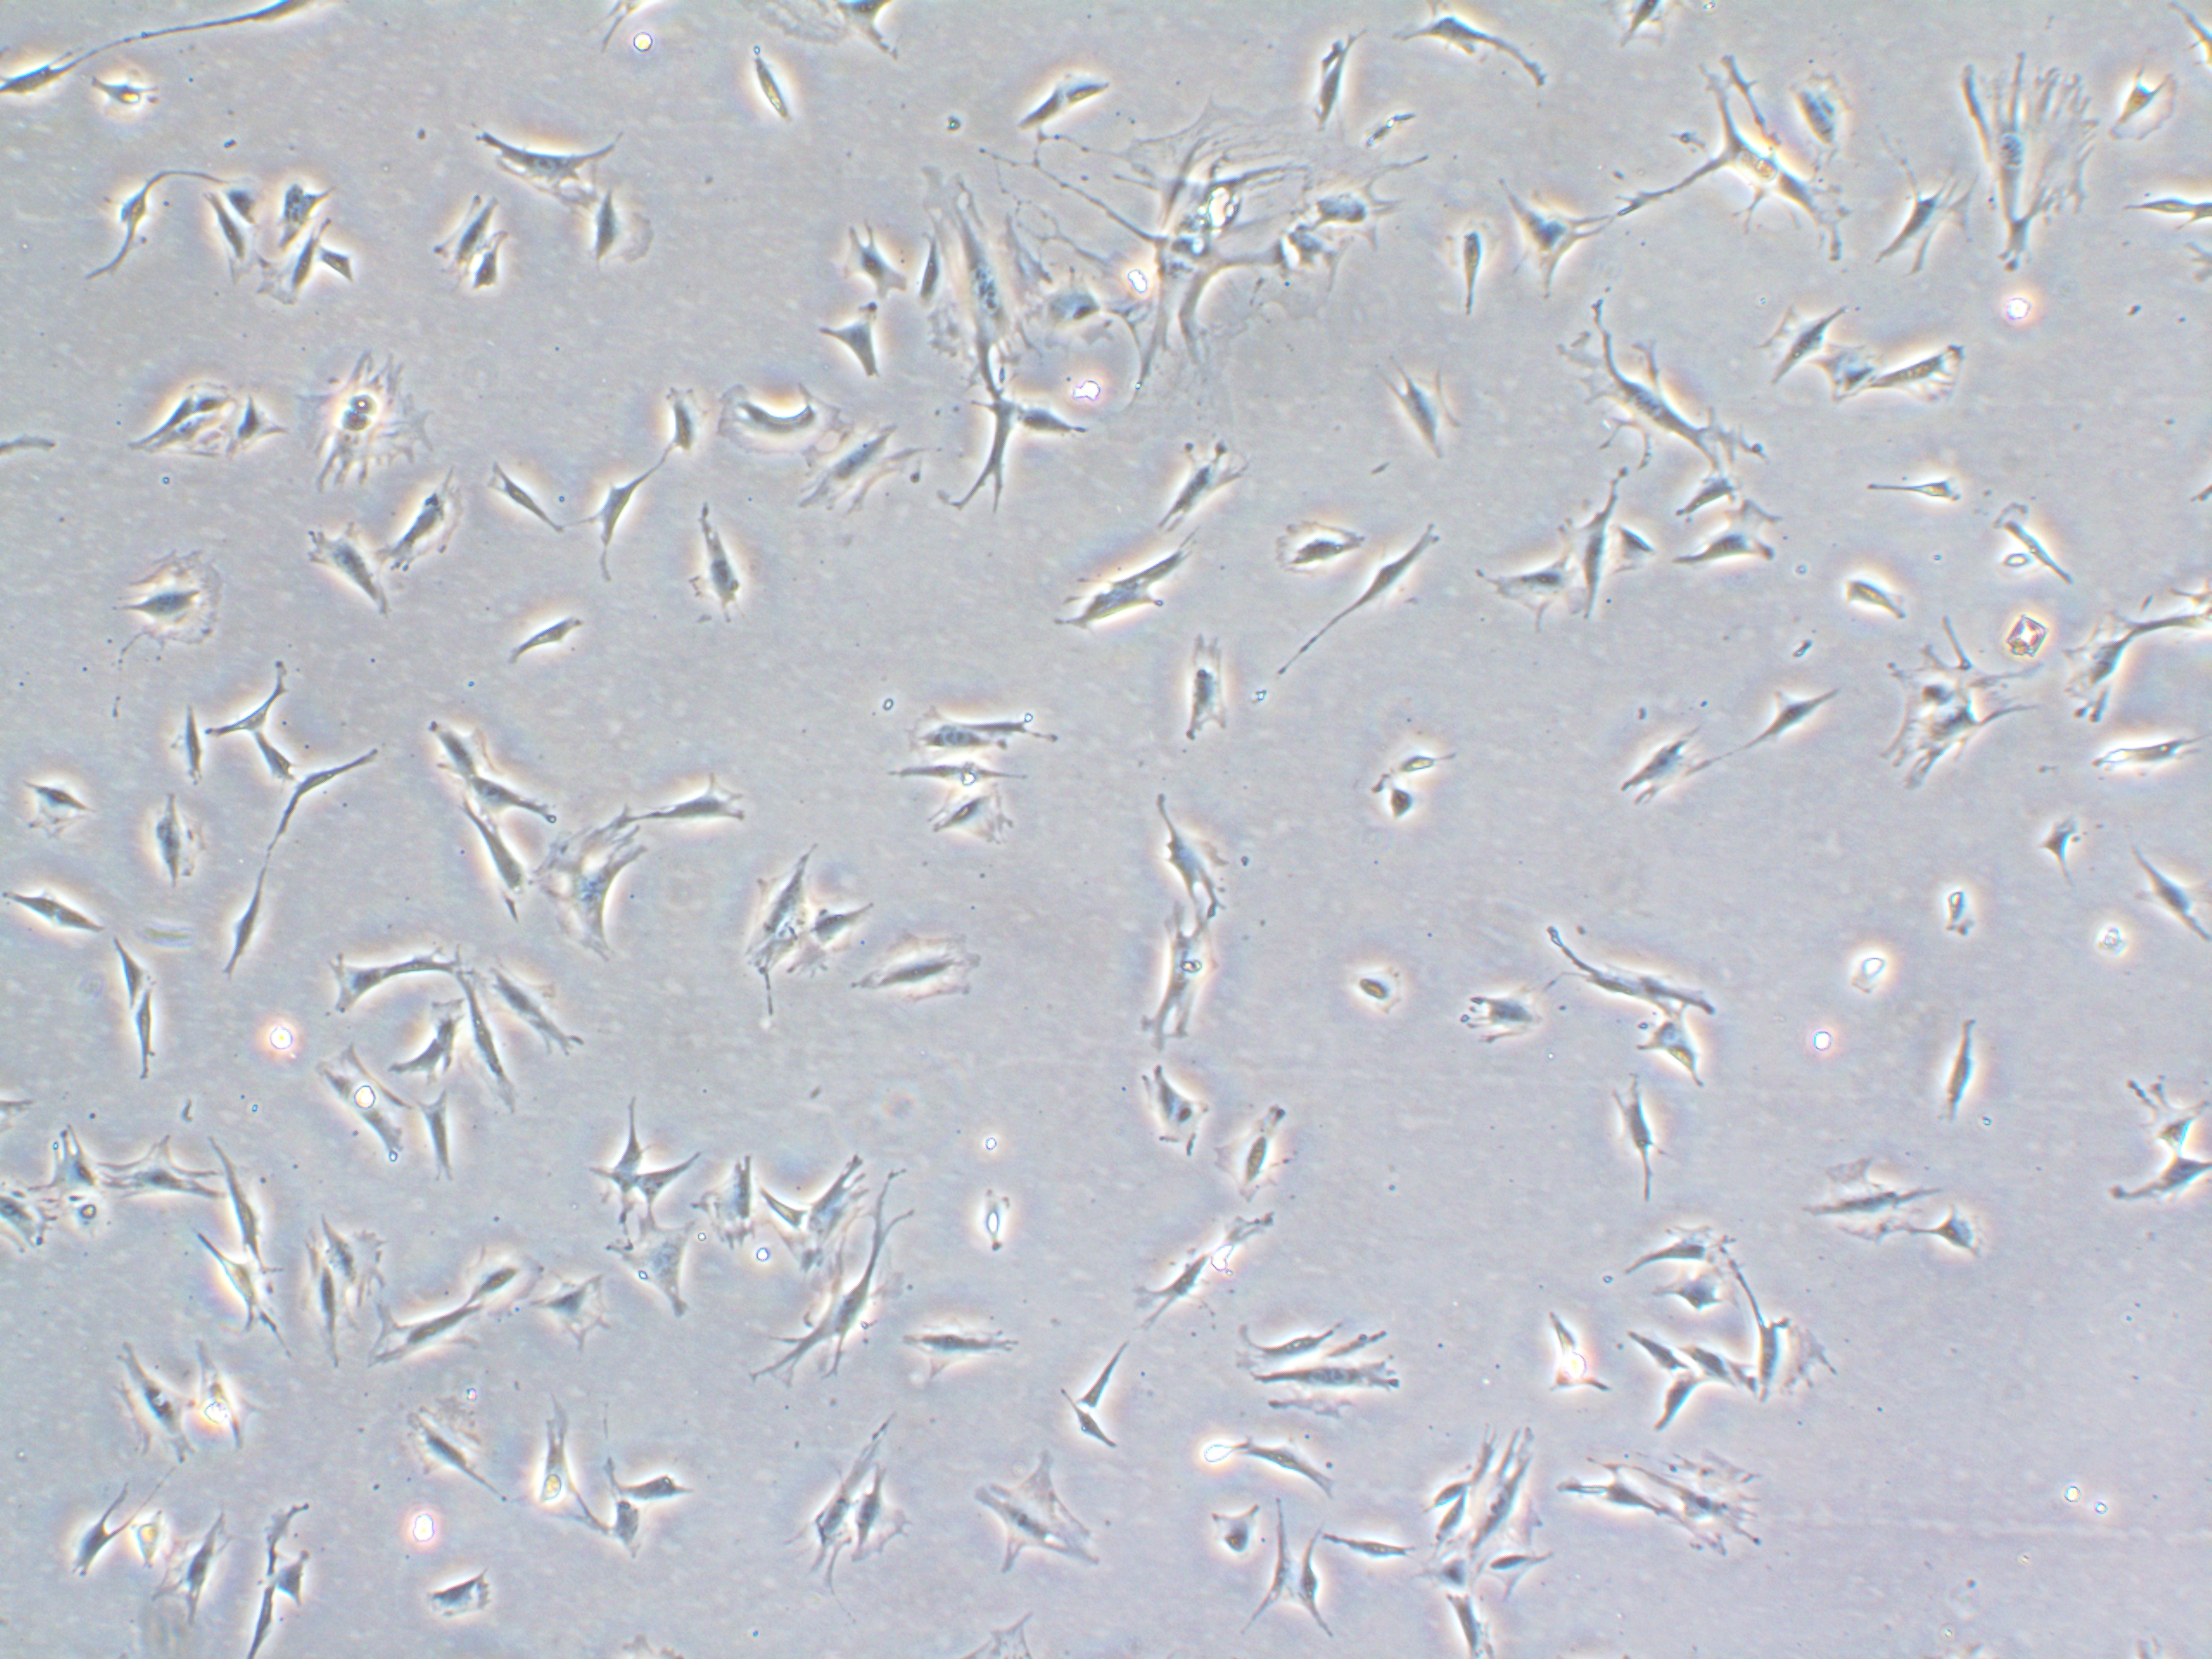small: (956, 1182, 1036, 1277), (1317, 951, 1421, 1023), (1829, 559, 1930, 629), (91, 63, 179, 139)
spread: (1085, 96, 1374, 368), (904, 174, 1118, 396), (1942, 42, 2109, 263), (1620, 1422, 1803, 1568), (284, 340, 442, 505), (1885, 631, 2015, 812), (99, 537, 253, 690), (521, 789, 631, 978), (798, 423, 935, 545)
